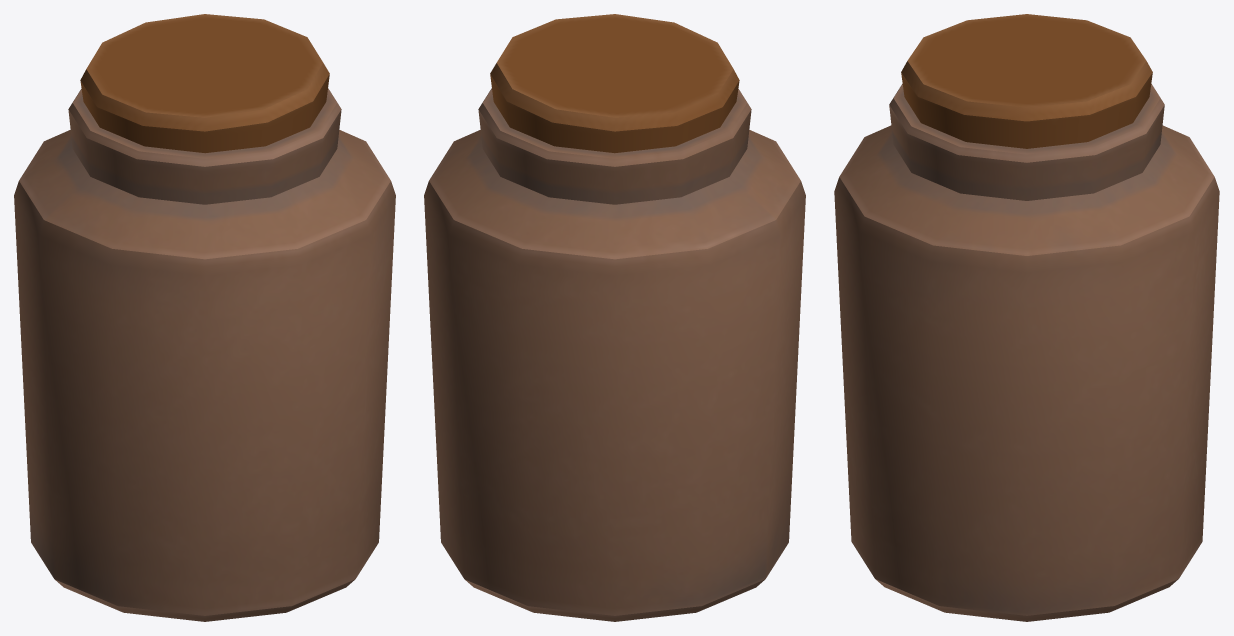
3 views of the same model, side by side, from view 1: azimuth 30°, elevation 25°; view 2: azimuth 150°, elevation 25°; view 3: azimuth 270°, elevation 25° (orthographic).
Visible parts, largest first — view 1: submesh_0; view 2: submesh_0; view 3: submesh_0.
Part boxes in pixels (x1,y1,x2,y2): submesh_0: (14, 14, 395, 621); submesh_0: (424, 14, 805, 621); submesh_0: (834, 14, 1219, 621).
Bounding box in the file's own units: 0.2308 × 0.3273 × 0.2308.
1 material, 1 textured.
